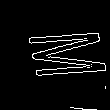M_E: (5, 29, 105, 81)
